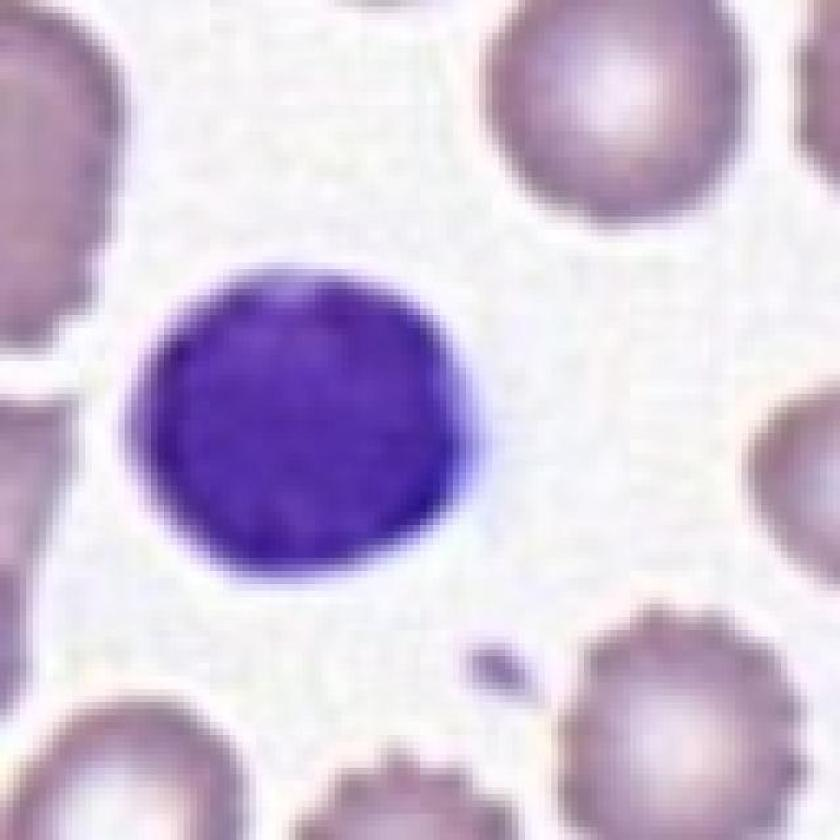lymphocyte: (119, 257, 495, 586)
